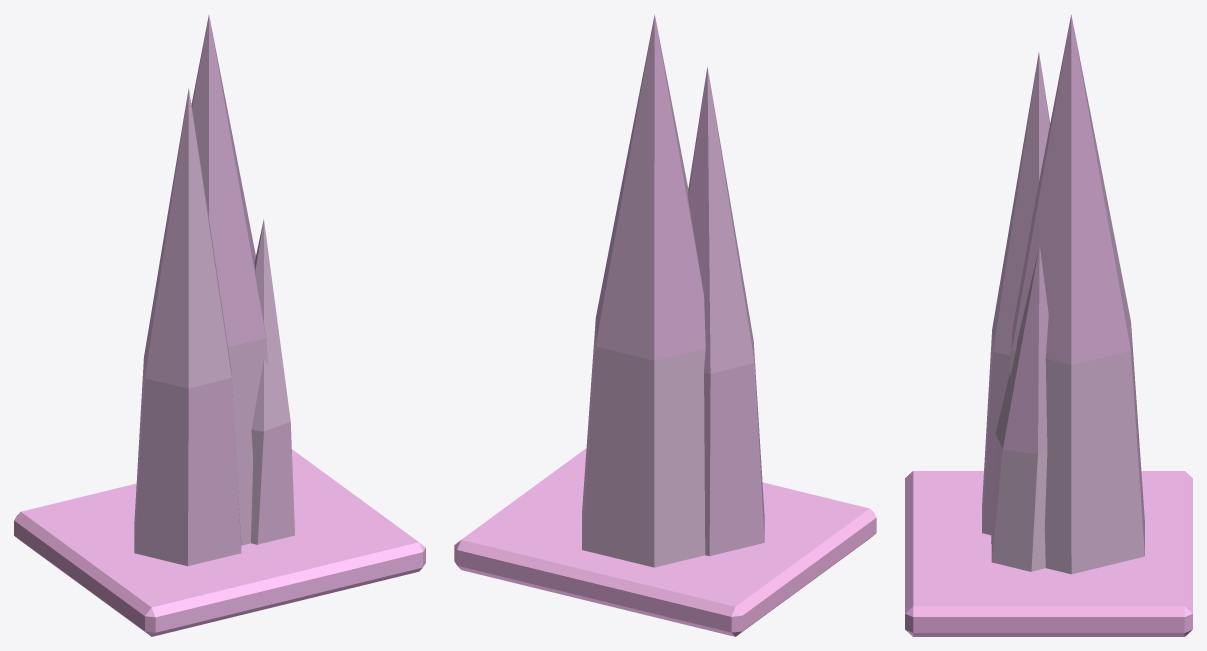
The model's file is Crystal_Large.fbx.
3 views of the same model, side by side, from view 1: azimuth 30°, elevation 25°; view 2: azimuth 150°, elevation 25°; view 3: azimuth 270°, elevation 25° (orthographic). The views are drawn at different scales.
Parts seen in each view (by area): view 1: Crystal_Large; view 2: Crystal_Large; view 3: Crystal_Large.
Boxes of the visible parts, left/top/right/bottom form: Crystal_Large: left=14, top=15, right=425, bottom=636; Crystal_Large: left=454, top=14, right=876, bottom=636; Crystal_Large: left=905, top=15, right=1192, bottom=636.
Bounding box in the file's own units: 239 × 435 × 204.
